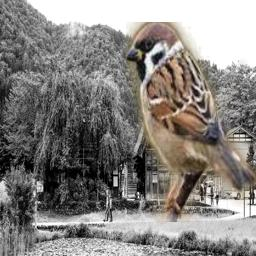Sparrow: (126, 22, 256, 222)
